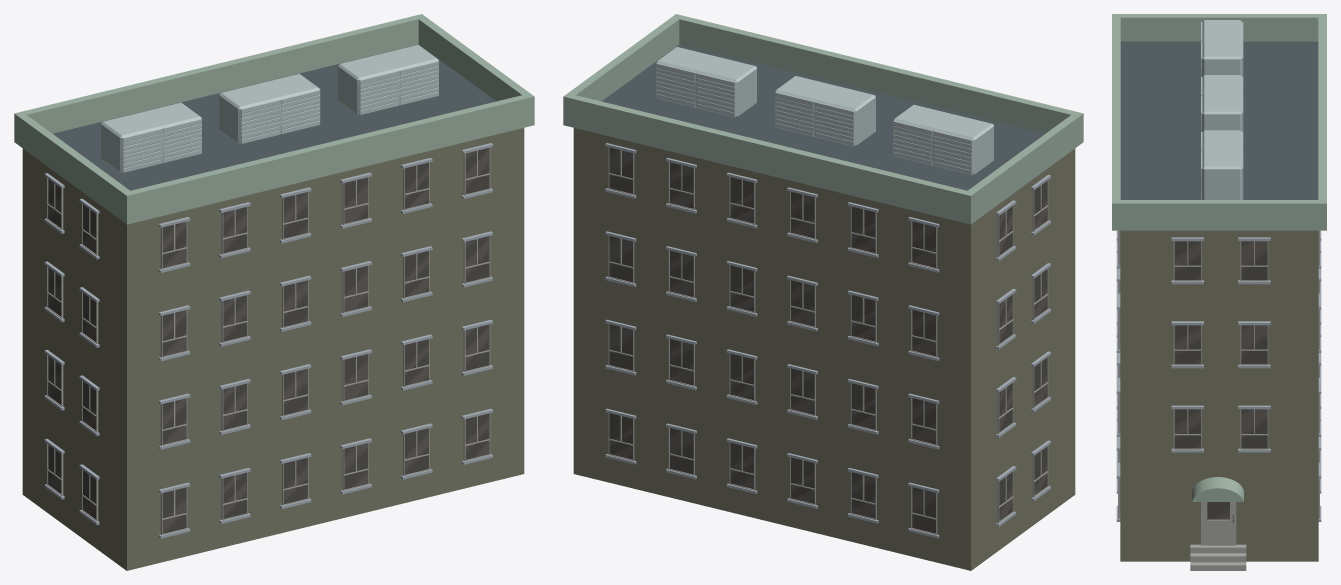
Rendered from big_house.fbx.
3 renders of one model, left to right at view 1: azimuth 30°, elevation 25°; view 2: azimuth 150°, elevation 25°; view 3: azimuth 270°, elevation 25°, orthographic. The views are drawn at different scales.
Parts seen in each view (by area): view 1: polySurface21; view 2: polySurface21; view 3: polySurface21.
Part boxes in pixels (x1=…): polySurface21: x1=14, y1=14, x2=534, y2=570; polySurface21: x1=563, y1=14, x2=1083, y2=570; polySurface21: x1=1112, y1=14, x2=1326, y2=570.
Size of the model in its own units: 2588 by 2288 by 1188.
